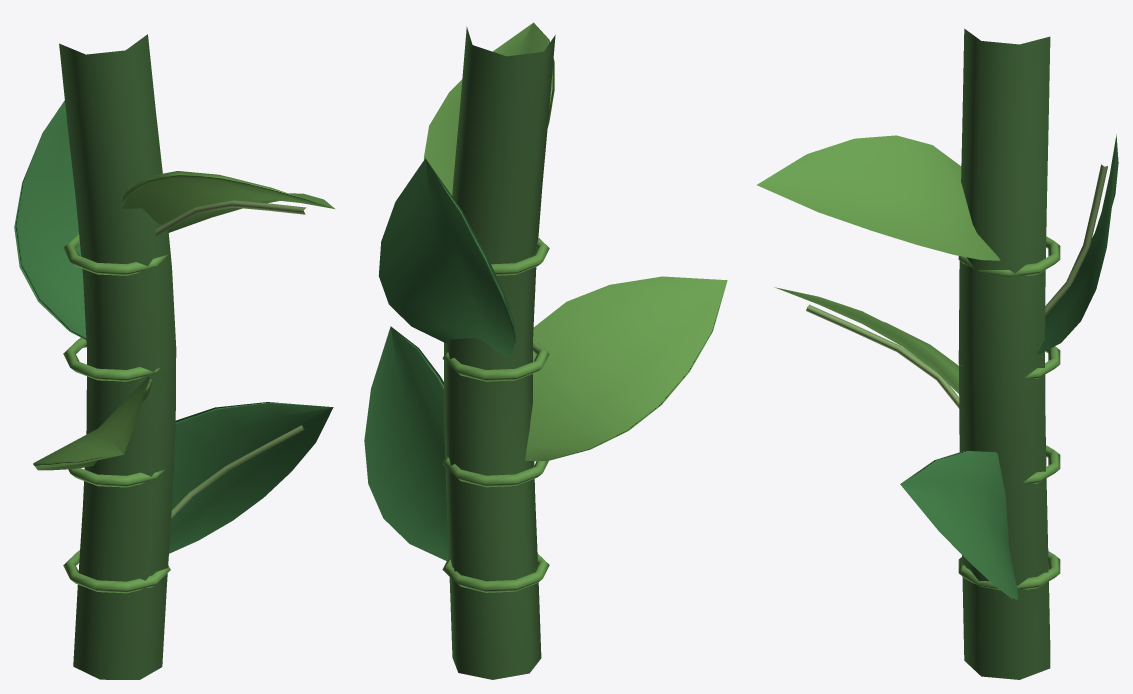
The model's file is maiz_1.glb.
The picture shows the model from 3 angles, left to right: view 1: azimuth 30°, elevation 25°; view 2: azimuth 150°, elevation 25°; view 3: azimuth 270°, elevation 25°; orthographic projection.
Visible parts, largest first — view 1: maiz_1_caña_0; view 2: maiz_1_caña_0; view 3: maiz_1_caña_0.
Boxes of the visible parts, x1,y1,x2,y2 form: maiz_1_caña_0: (14,34,334,679); maiz_1_caña_0: (364,22,727,679); maiz_1_caña_0: (757,28,1118,679).
Bounding box in the file's own units: 0.1832 × 0.3829 × 0.1999.
